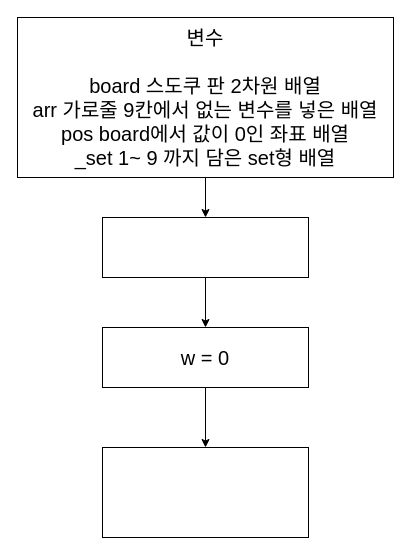
Some shapes in this 411 by 555 pixel diagram are drawn without their labels. Here are the shapes that lost their labels. From the top down, the centre of each, then its label:
the point at 205,247: h = 0 nums = []
the point at 205,492: nums.append()
